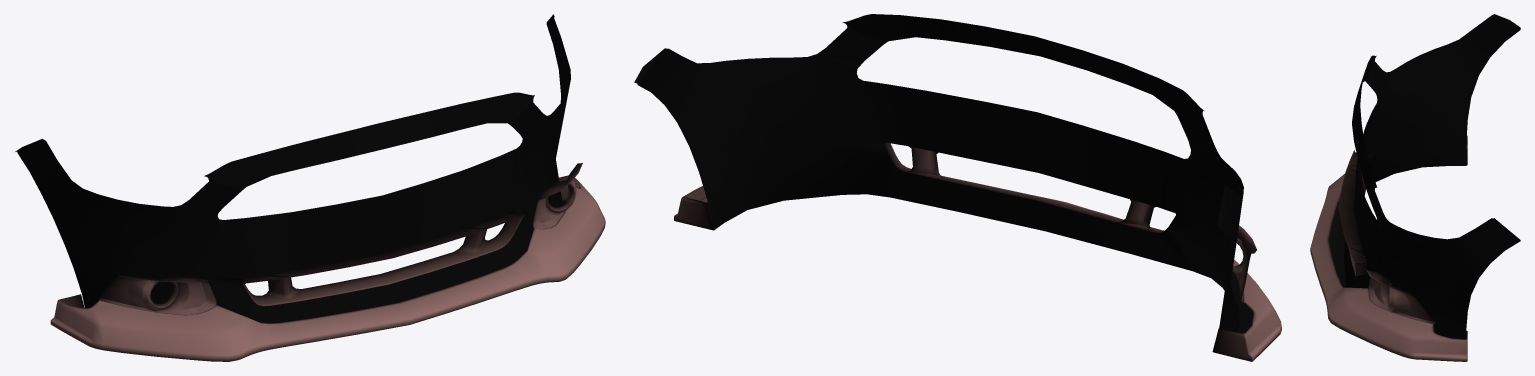
File: Mustang16_FB_02_Trim.fbx
3 renders of one model, left to right at view 1: azimuth 30°, elevation 25°; view 2: azimuth 150°, elevation 25°; view 3: azimuth 270°, elevation 25°, orthographic. The views are drawn at different scales.
Visible parts, largest first — view 1: Mustang16_FB_02_Trim; view 2: Mustang16_FB_02_Trim; view 3: Mustang16_FB_02_Trim.
Part boxes in pixels (box(x1,y1,x2,y2)): Mustang16_FB_02_Trim: box(15, 14, 605, 361); Mustang16_FB_02_Trim: box(634, 14, 1281, 361); Mustang16_FB_02_Trim: box(1310, 14, 1520, 361).
Size of the model in its own units: 183 by 60.68 by 76.26.
